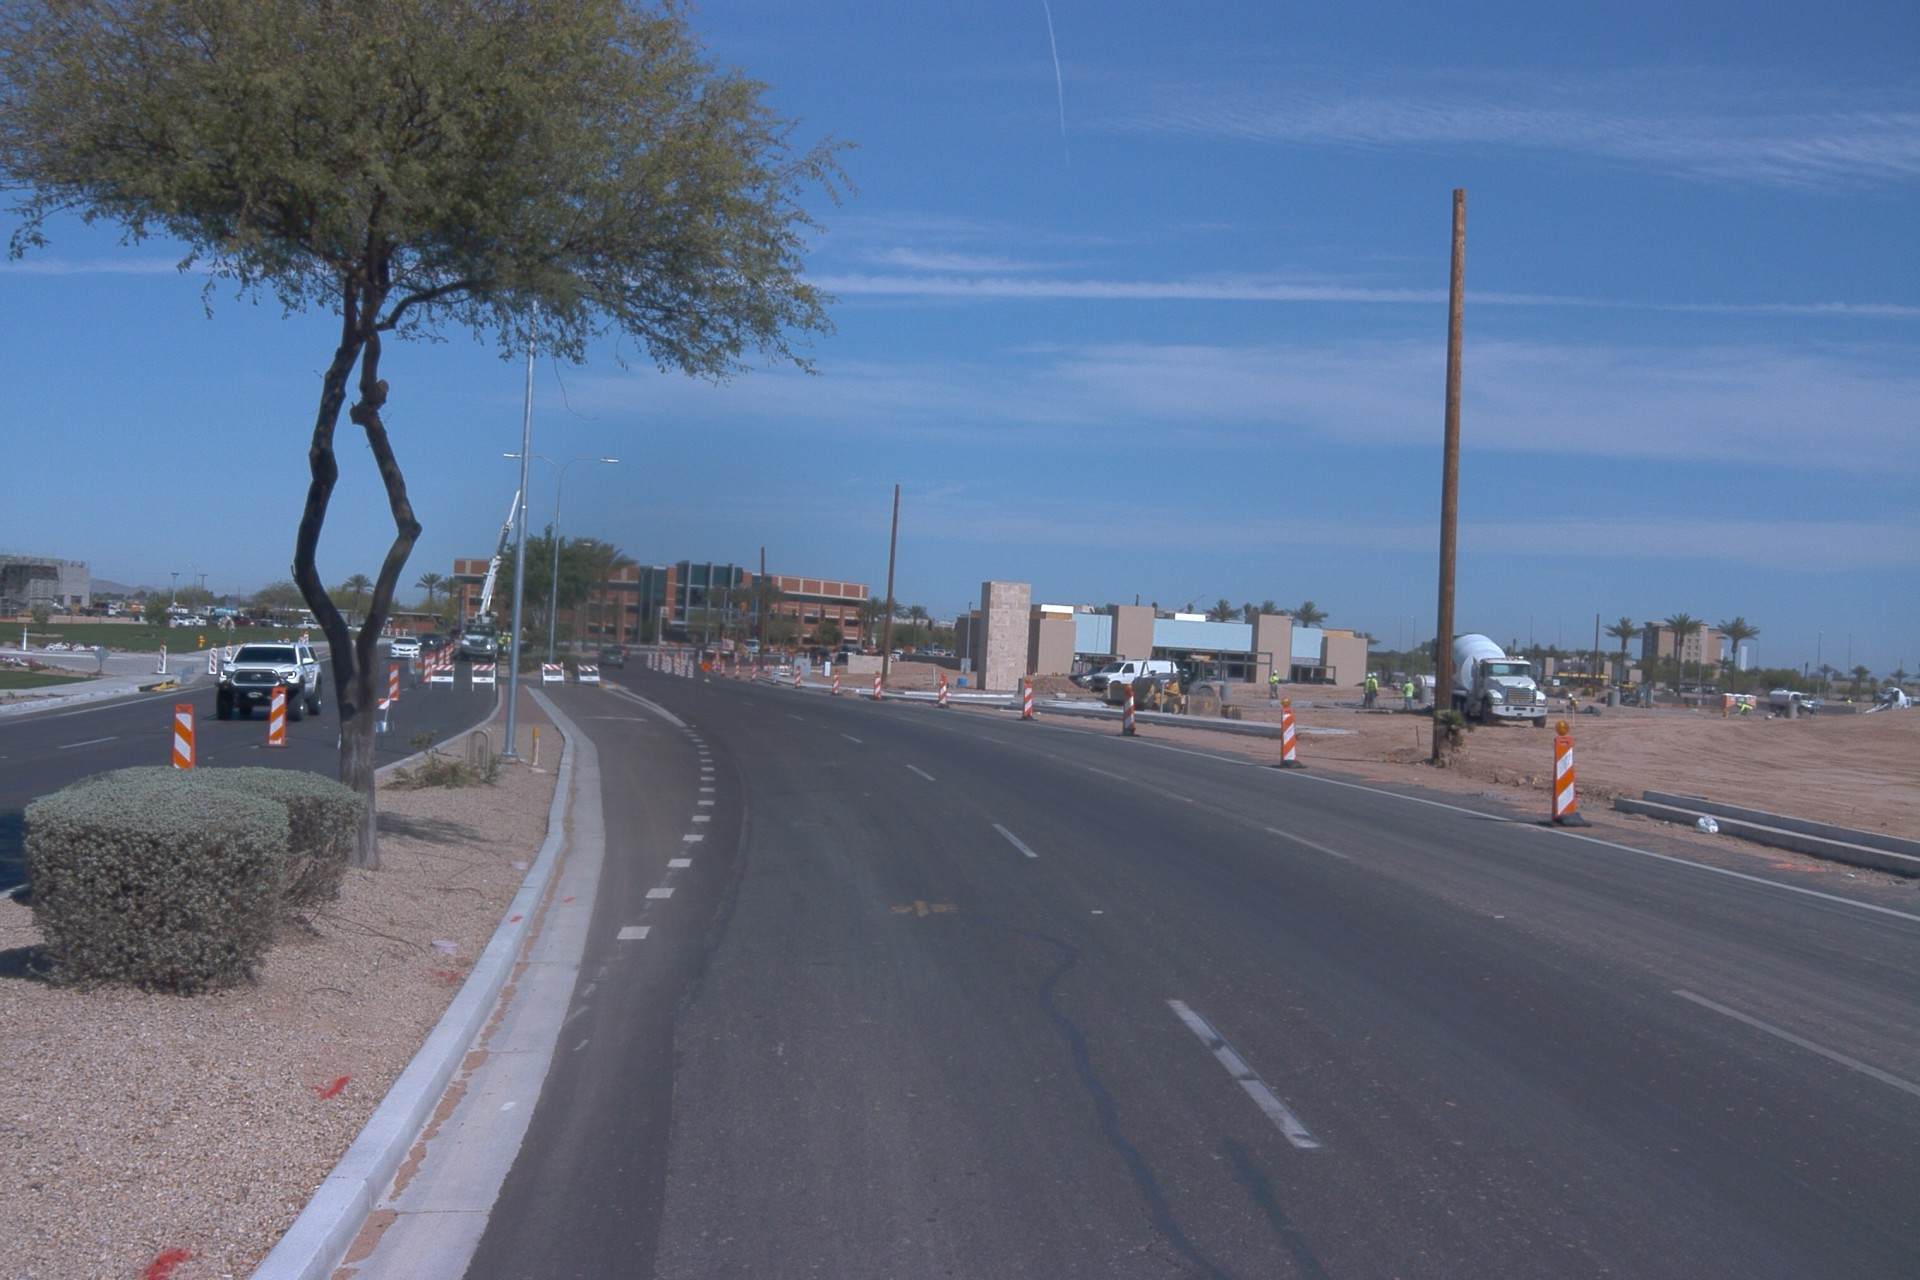TYPE_PEDESTRIAN: (1361, 673, 1375, 709), (1401, 677, 1415, 713), (1367, 671, 1380, 709), (1269, 669, 1281, 701), (1564, 692, 1580, 712), (496, 632, 505, 654), (505, 632, 512, 646), (743, 645, 750, 657)
TYPE_VEHICLE: (453, 483, 531, 671), (216, 641, 325, 722), (1090, 660, 1180, 691), (651, 626, 691, 674), (1768, 679, 1822, 712), (1068, 664, 1113, 694), (703, 628, 749, 653), (84, 597, 126, 622), (1599, 687, 1642, 711), (835, 643, 876, 664), (390, 636, 425, 660), (741, 627, 774, 650), (228, 613, 261, 632), (441, 627, 466, 652), (595, 650, 625, 670), (1411, 674, 1437, 694), (184, 612, 210, 631), (612, 642, 636, 659), (169, 615, 198, 629), (1300, 676, 1335, 687), (416, 635, 442, 649), (1175, 663, 1192, 682), (294, 620, 323, 629), (129, 612, 145, 626), (1352, 682, 1381, 688), (1277, 678, 1295, 685)
